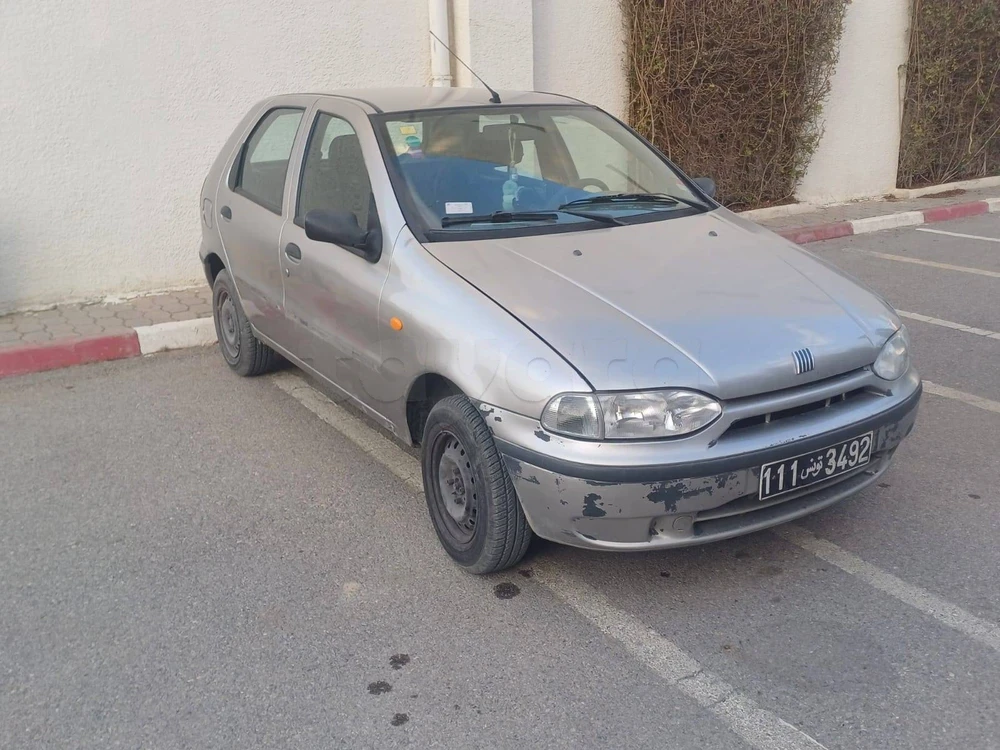fiat: (190, 84, 930, 583)
